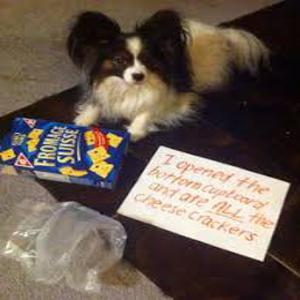yell: (65, 9, 269, 140)
